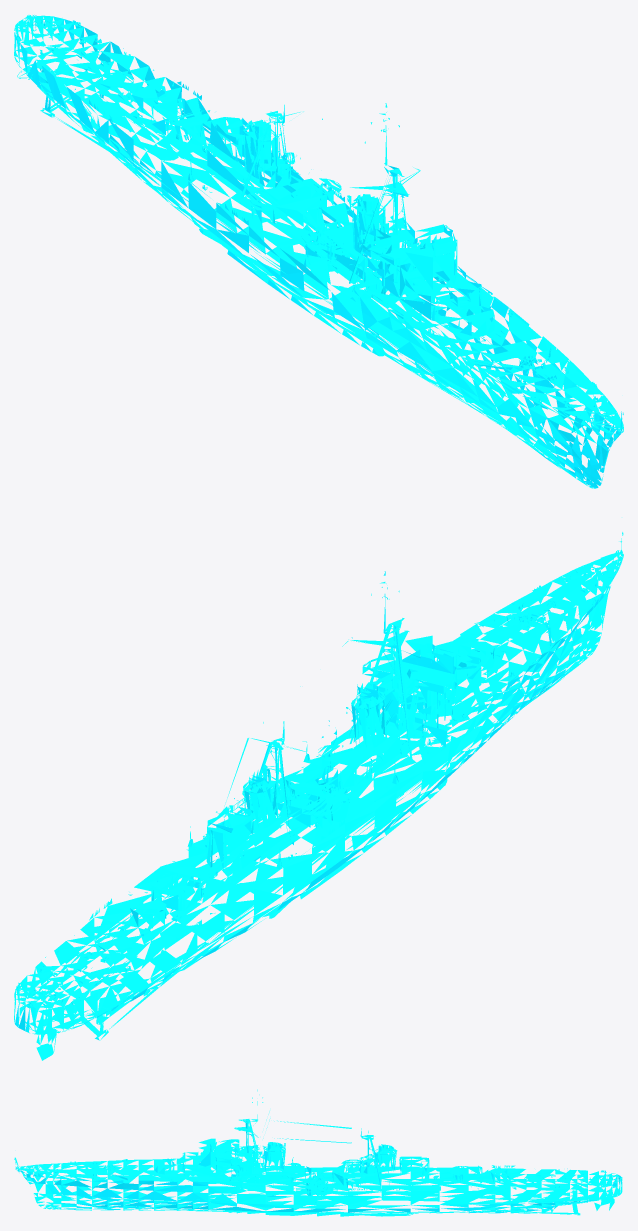
File: Marceau.glb
The picture shows the model from 3 angles, top to bottom: view 1: azimuth 30°, elevation 25°; view 2: azimuth 150°, elevation 25°; view 3: azimuth 270°, elevation 25°; orthographic projection. The views are drawn at different scales.
Size of the model in its own units: 0.9058 by 2.12 by 9.44.
